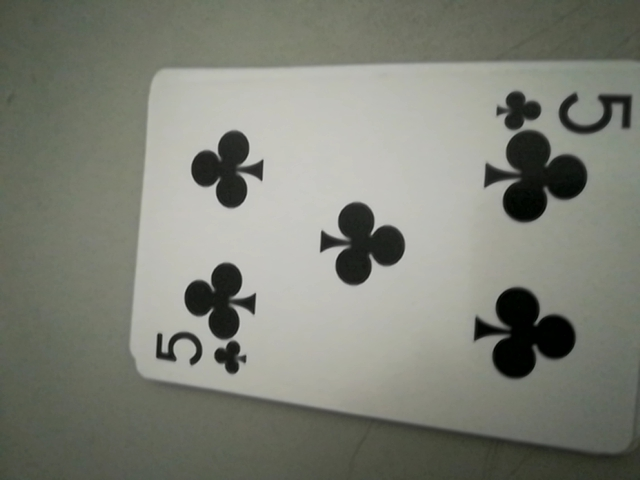mh 5: (496, 84, 634, 137), (149, 327, 253, 382)
